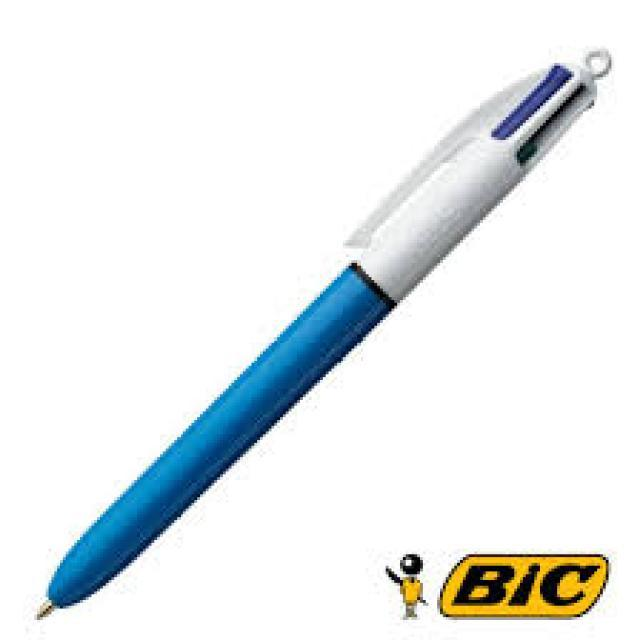pen: (31, 43, 612, 620)
